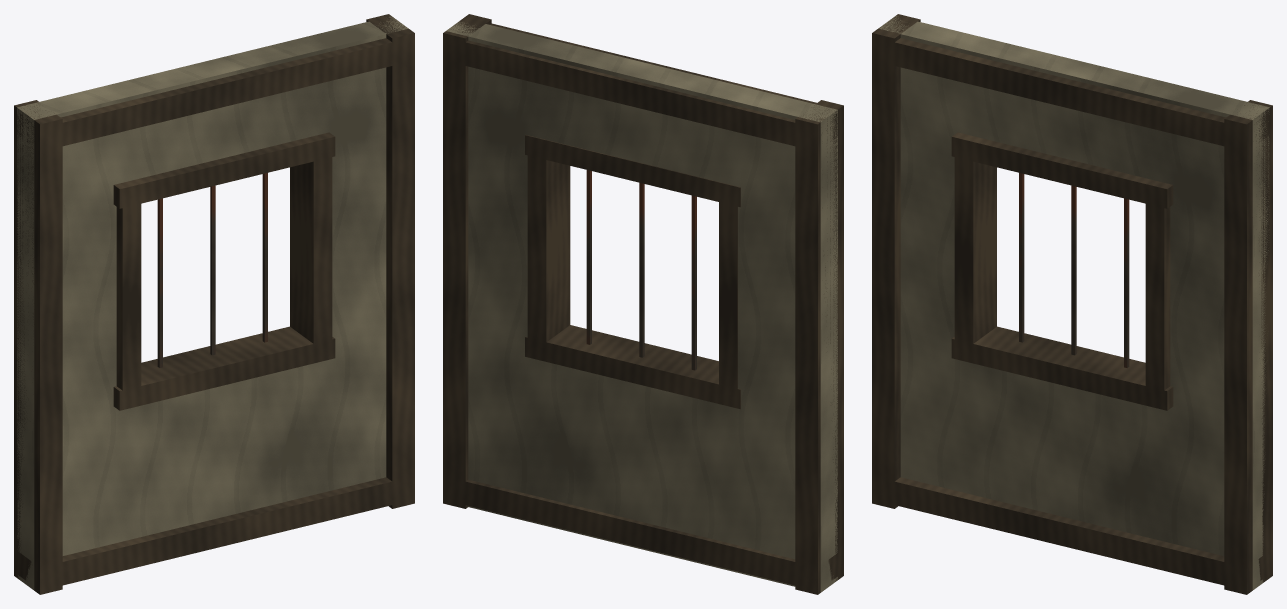
The model's file is Wall_Window_2m.glb.
3 renders of one model, left to right at view 1: azimuth 30°, elevation 25°; view 2: azimuth 150°, elevation 25°; view 3: azimuth 330°, elevation 25°, orthographic.
Parts seen in each view (by area): view 1: Wall_Window_2m; view 2: Wall_Window_2m; view 3: Wall_Window_2m.
Part boxes in pixels (<box>): Wall_Window_2m: <box>14,14,414,594</box>; Wall_Window_2m: <box>443,14,843,594</box>; Wall_Window_2m: <box>872,14,1272,594</box>.
Size of the model in its own units: 2 by 2.4 by 0.24.
Materials: 3 (3 with a texture image).
